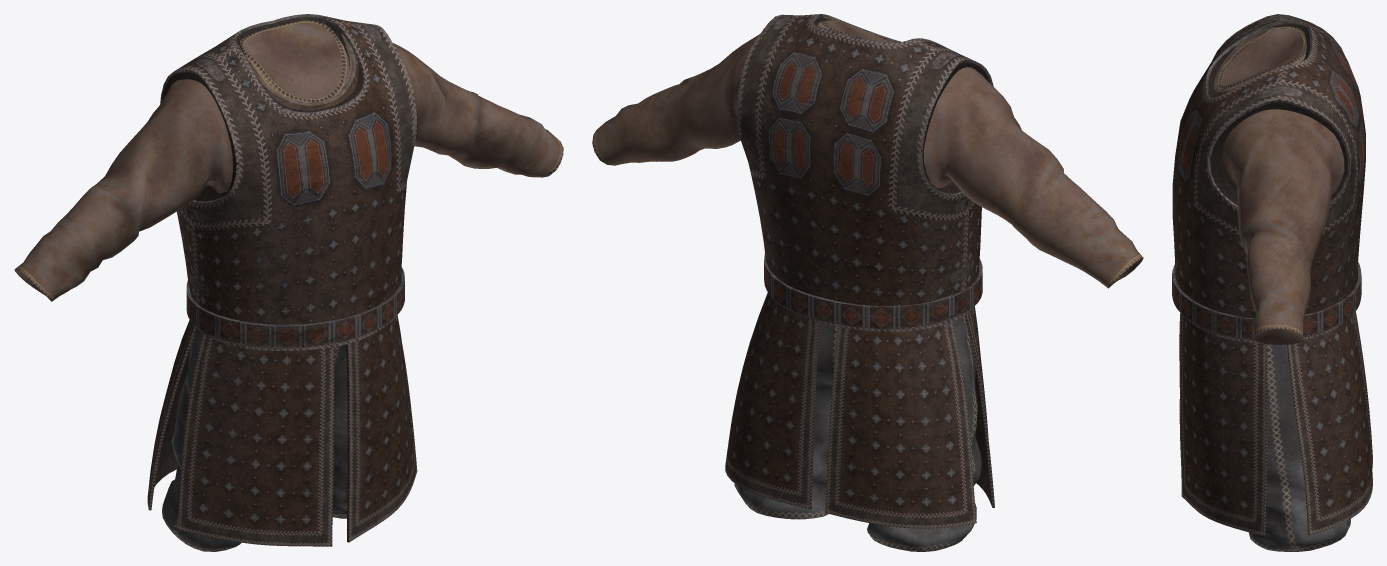
The model's file is sk_dwarf_iron_chest_heavy_c.fbx.
The picture shows the model from 3 angles, left to right: view 1: azimuth 30°, elevation 25°; view 2: azimuth 150°, elevation 25°; view 3: azimuth 270°, elevation 25°; orthographic projection. The views are drawn at different scales.
Visible parts, largest first — view 1: sk_dwarf_iron_chest_heavy_c.1, sk_dwarf_iron_chest_heavy_c.2, sk_dwarf_iron_chest_heavy_c.0; view 2: sk_dwarf_iron_chest_heavy_c.1, sk_dwarf_iron_chest_heavy_c.2, sk_dwarf_iron_chest_heavy_c.0; view 3: sk_dwarf_iron_chest_heavy_c.1, sk_dwarf_iron_chest_heavy_c.2, sk_dwarf_iron_chest_heavy_c.0.
Part boxes in pixels (x1,y1,x2,y2): sk_dwarf_iron_chest_heavy_c.1: (147,14,417,546); sk_dwarf_iron_chest_heavy_c.2: (14,20,563,301); sk_dwarf_iron_chest_heavy_c.0: (162,325,347,551); sk_dwarf_iron_chest_heavy_c.1: (725,14,994,528); sk_dwarf_iron_chest_heavy_c.2: (592,17,1143,288); sk_dwarf_iron_chest_heavy_c.0: (734,316,981,551); sk_dwarf_iron_chest_heavy_c.1: (1172,14,1372,535); sk_dwarf_iron_chest_heavy_c.2: (1211,26,1344,344); sk_dwarf_iron_chest_heavy_c.0: (1249,344,1350,551).
Bounding box in the file's own units: 1.17 × 0.3958 × 1.02.
